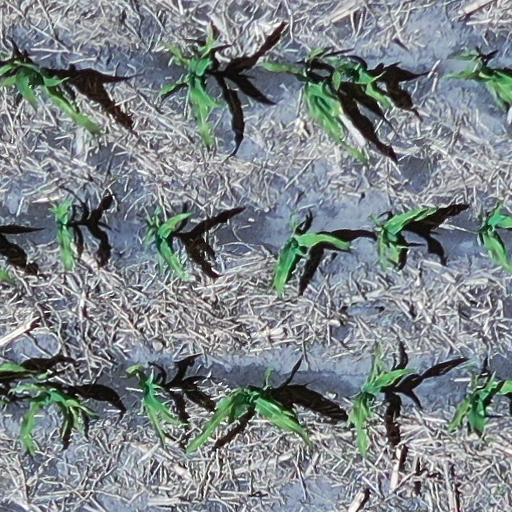planta: (259, 44, 369, 173), (185, 361, 311, 454), (153, 26, 229, 149), (346, 344, 417, 457), (269, 218, 350, 300), (14, 382, 96, 454), (126, 365, 188, 438), (373, 207, 436, 273), (319, 54, 392, 108), (143, 207, 194, 280), (45, 195, 77, 276)
